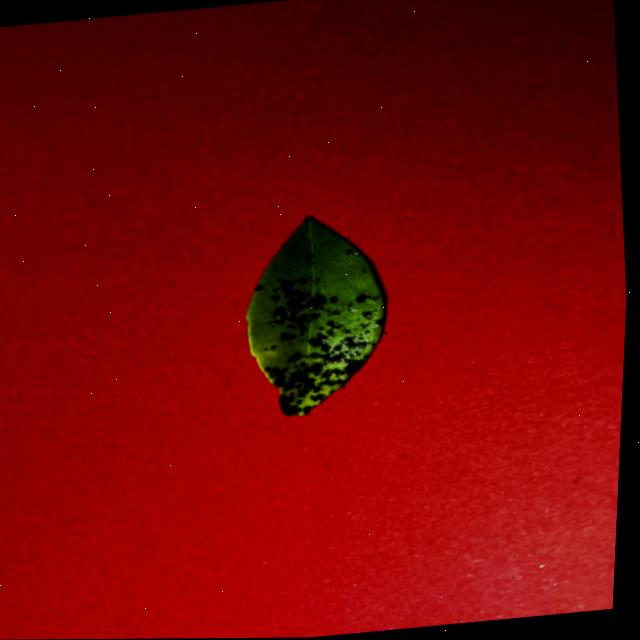sooty_mold: (246, 218, 383, 415)
